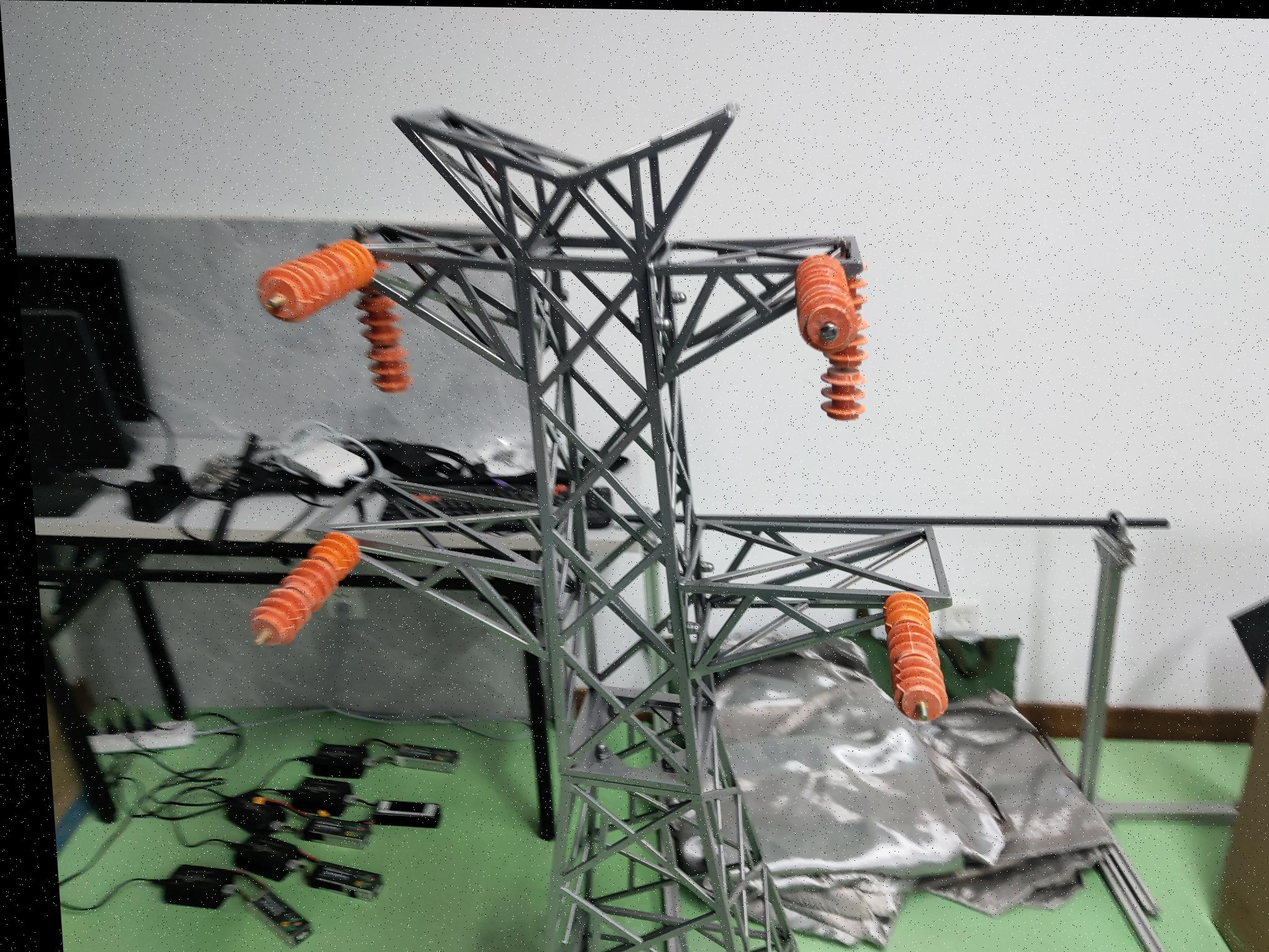tower: (278, 103, 980, 952)
